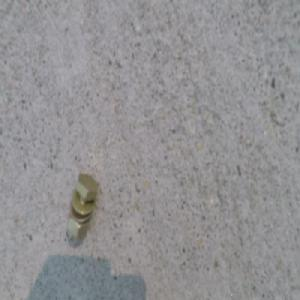BoltNutSet: (63, 168, 95, 240)
